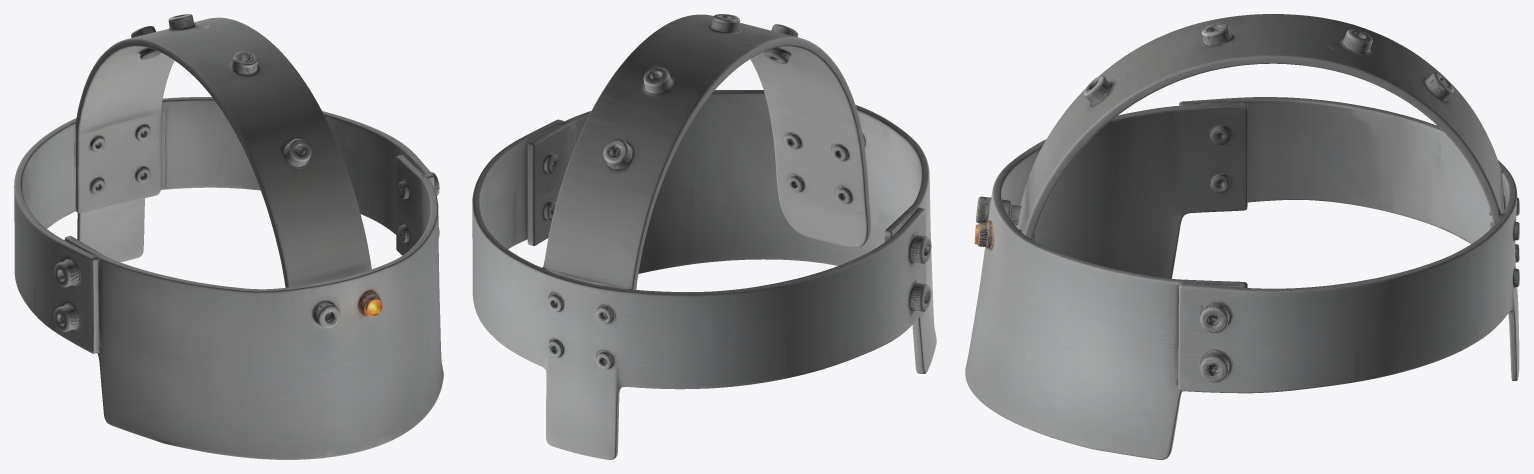
Rendered from casque.glb.
3 views of the same model, side by side, from view 1: azimuth 30°, elevation 25°; view 2: azimuth 150°, elevation 25°; view 3: azimuth 270°, elevation 25° (orthographic). The views are drawn at different scales.
Visible parts, largest first — view 1: node_0; view 2: node_0; view 3: node_0.
Part boxes in pixels (x1,y1,x2,y2): node_0: (14,14,443,459); node_0: (472,14,936,459); node_0: (965,14,1519,459).
Size of the model in its own units: 44.24 by 35.4 by 50.98.
Materials: 1 (1 with a texture image).
